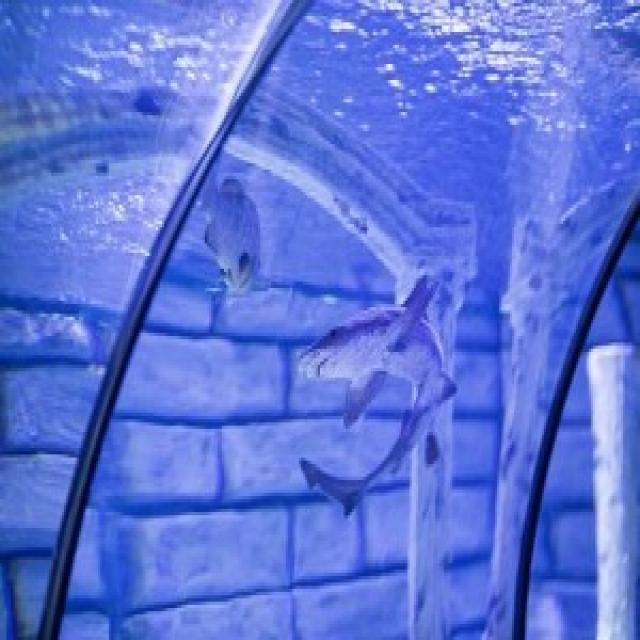Shark: (289, 273, 458, 512)
